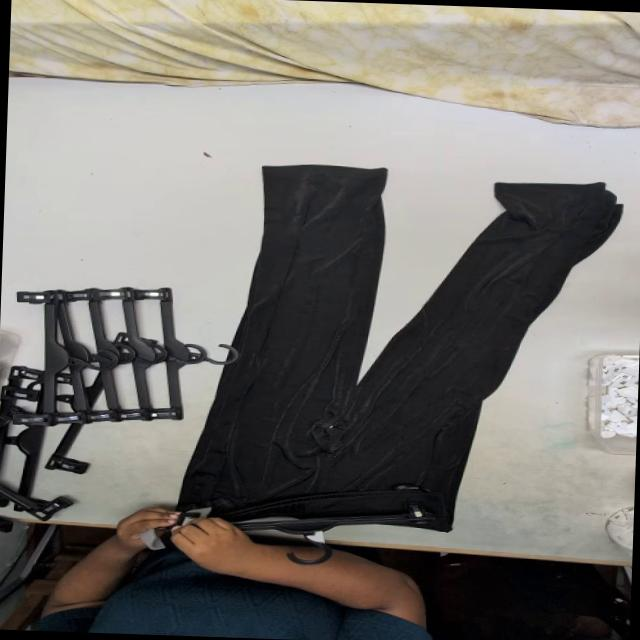new-garment: (177, 164, 620, 529)
